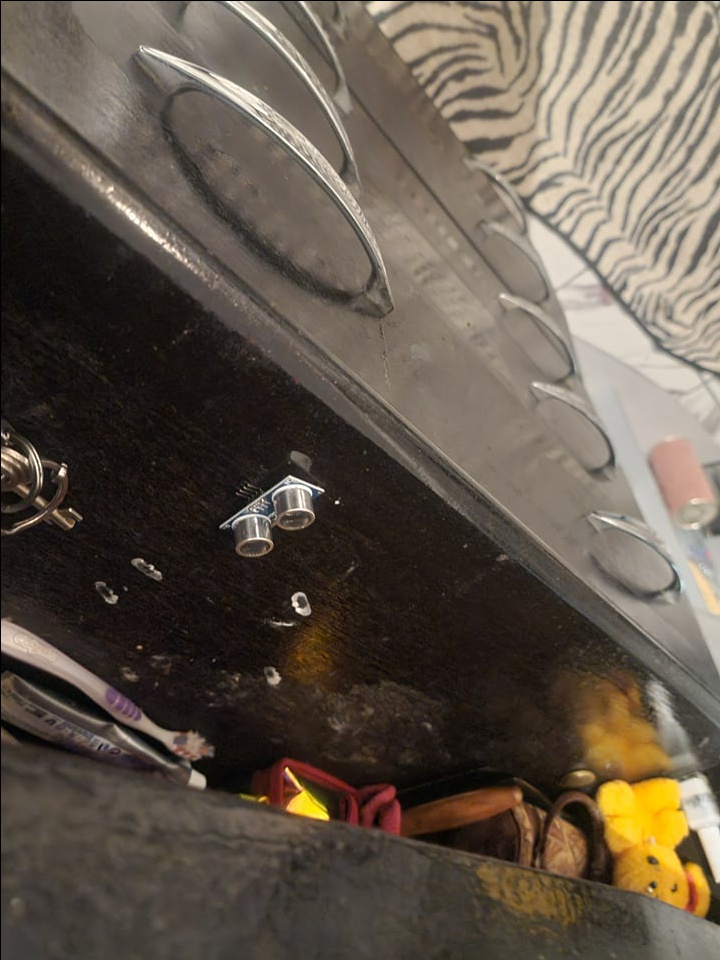SENSOR: (215, 471, 327, 560)
